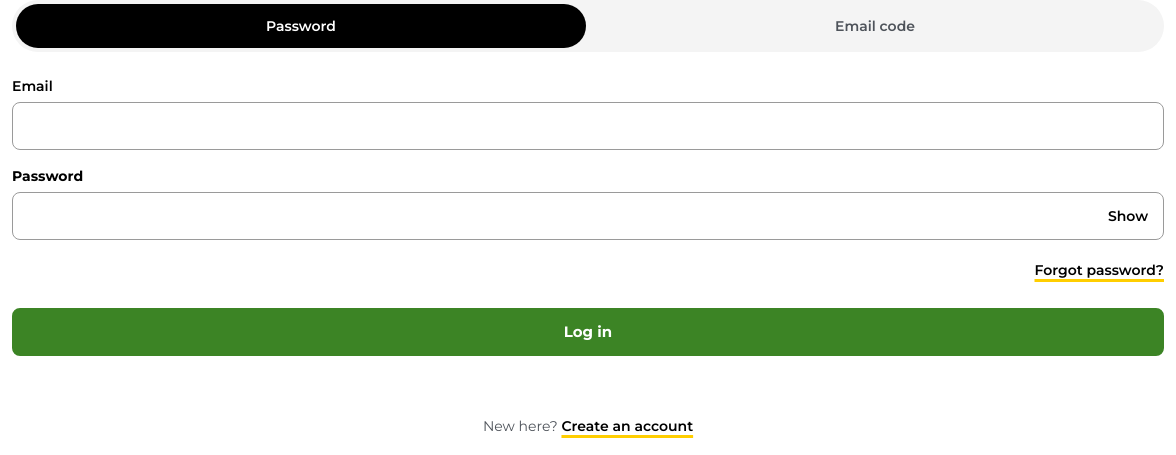
Test case: OTP step › is numeric, one-time-code, digits only, and offers a resend countdown
Click the button "Email code" at (875, 26), box top-left (590, 4), bottom-right (1160, 48)
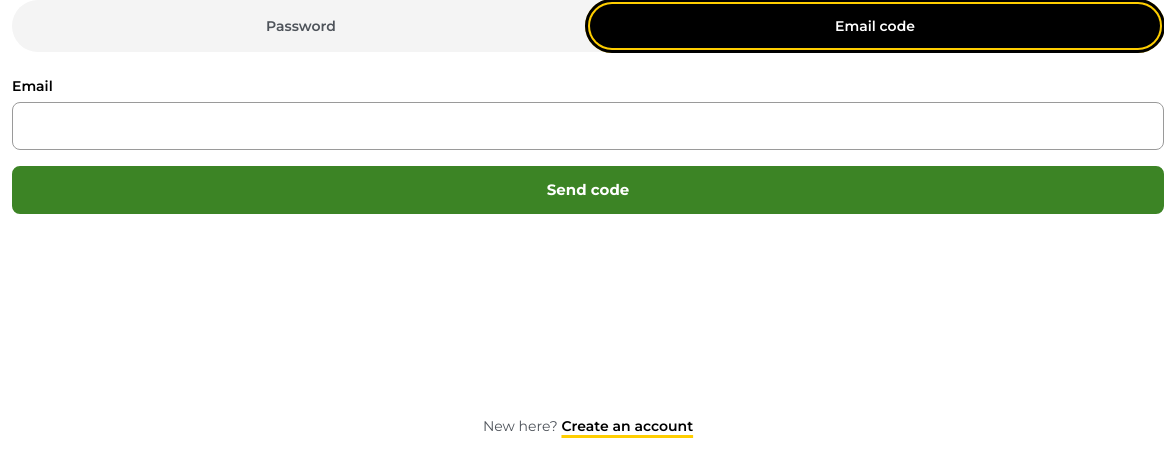
Type "a@b.co" into the field labelled "Email" at (588, 126), box top-left (12, 102), bottom-right (1164, 150)
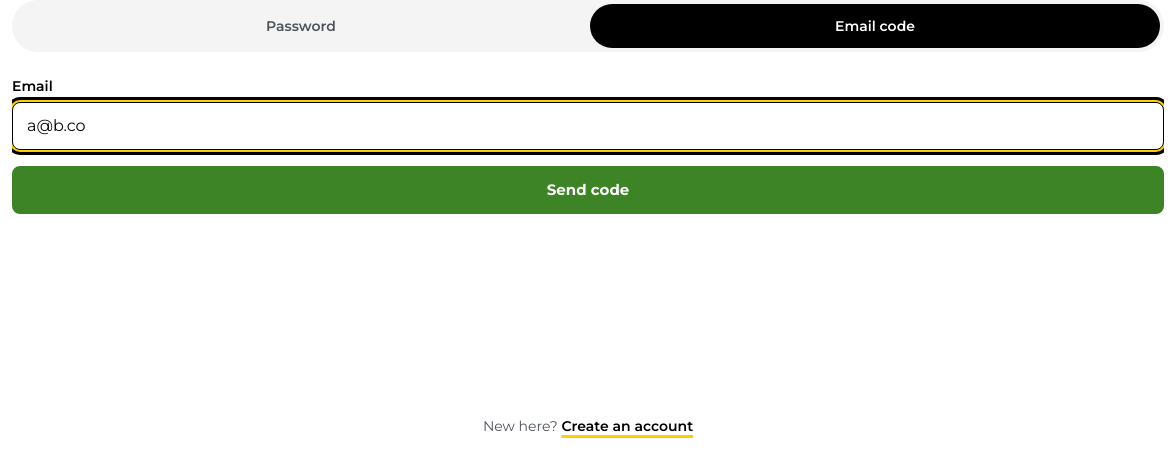
Click the button "Send code" at (588, 190), box top-left (12, 166), bottom-right (1164, 214)
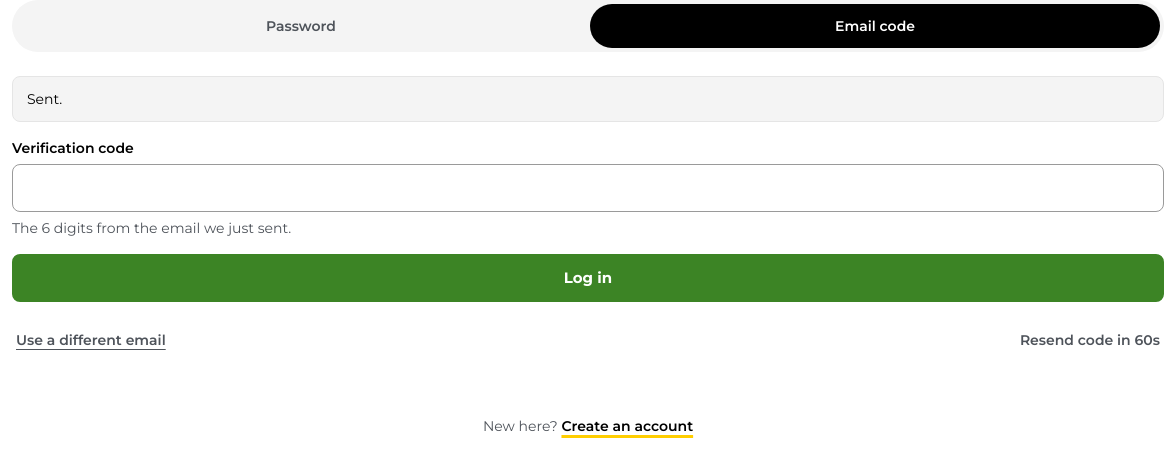
Type "12a3-456789" into the field labelled "Verification code" at (588, 188), box top-left (12, 164), bottom-right (1164, 212)
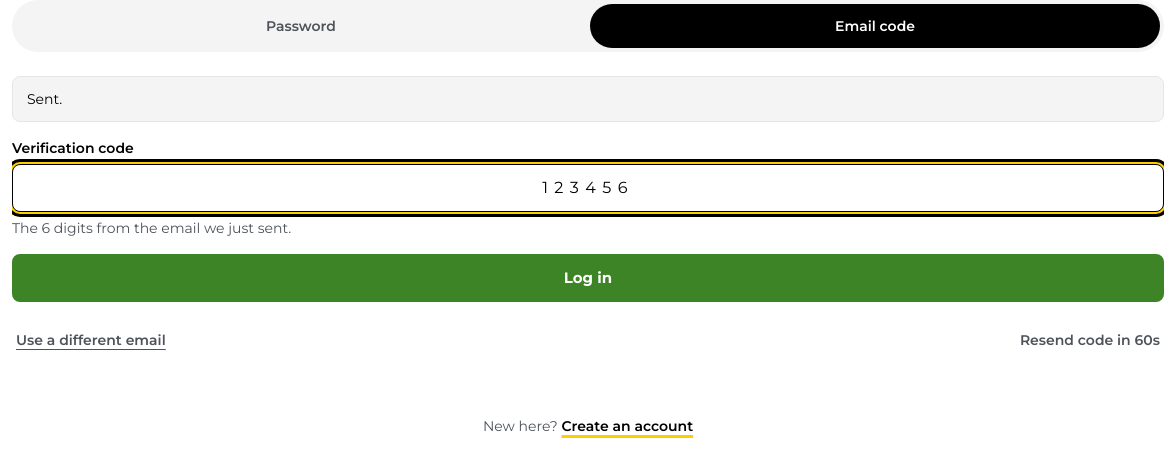
Now the button "Resend code in 60s" is disabled, box top-left (1016, 318), bottom-right (1164, 362)
Now the field labelled "Verification code" holds "123456", box top-left (12, 164), bottom-right (1164, 212)
